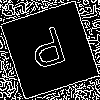P: (25, 25, 72, 79)
